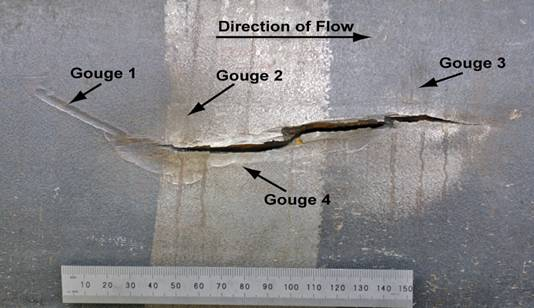crack: (150, 105, 489, 160)
